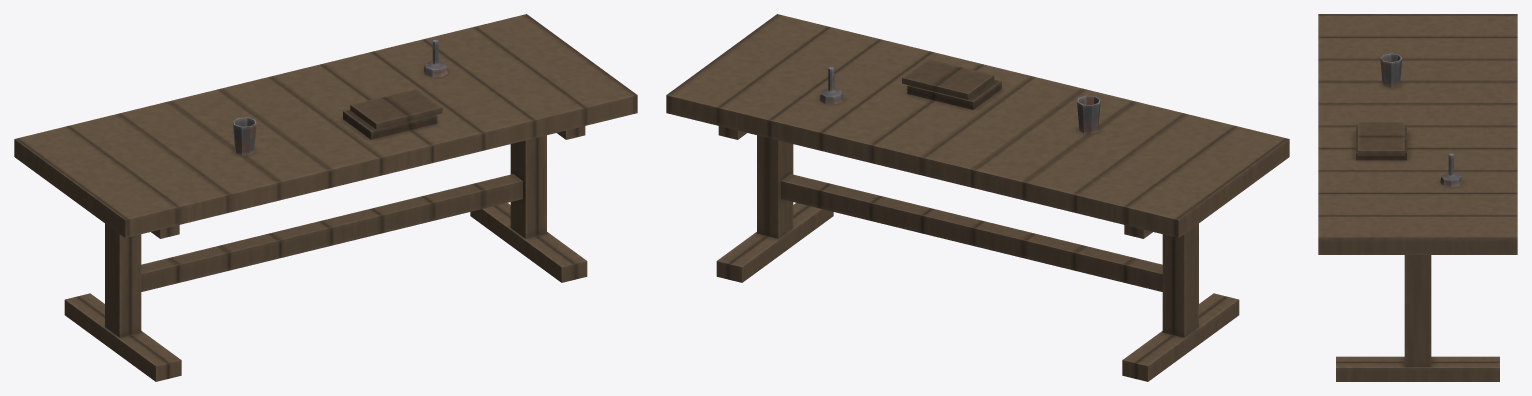
The model's file is table.fbx.
3 views of the same model, side by side, from view 1: azimuth 30°, elevation 25°; view 2: azimuth 150°, elevation 25°; view 3: azimuth 270°, elevation 25° (orthographic). The views are drawn at different scales.
Visible parts, largest first — view 1: table; view 2: table; view 3: table.
Boxes of the visible parts, x1,y1,x2,y2 form: table: (14, 14, 637, 381); table: (666, 14, 1289, 381); table: (1318, 14, 1517, 381).
Bounding box in the file's own units: 2.4 × 0.94 × 0.9.
Materials: 1 (1 with a texture image).
